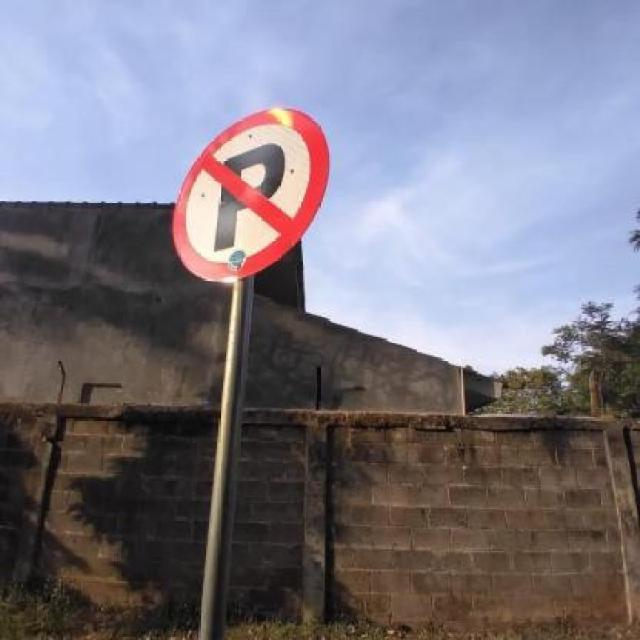no parking: (171, 107, 331, 283)
